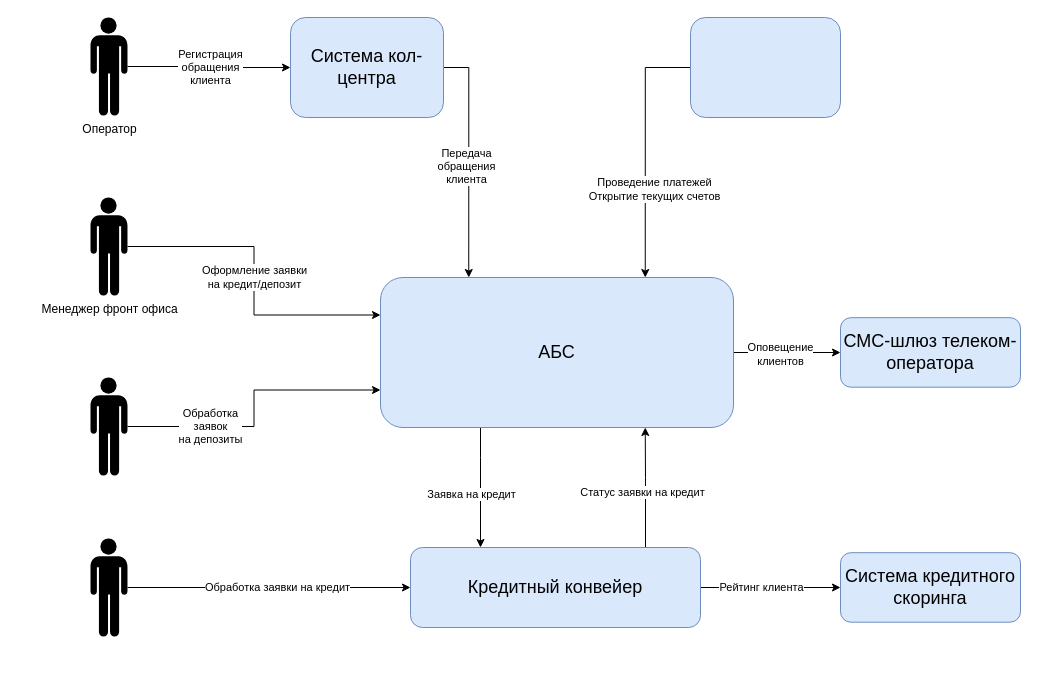
The diagram is 1038 pixels wide and 675 high, and some of its shapes have lost their labels. Here are the shapes that lost their labels. From the top down, the box of each, then its label:
(690, 16, 840, 118): Интернет-банк
(90, 377, 127, 475): Сотрудник бэк офиса (депозиты)
(90, 538, 127, 636): Сотрудник бэк офиса (кредиты)
